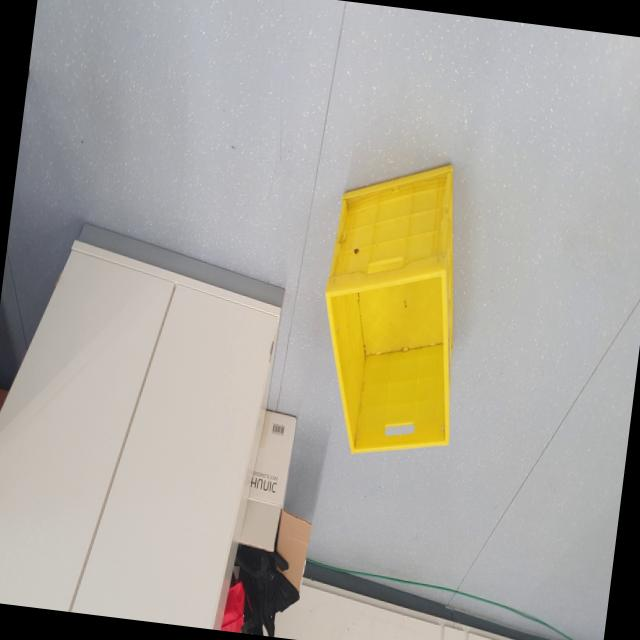box: (294, 142, 484, 476)
